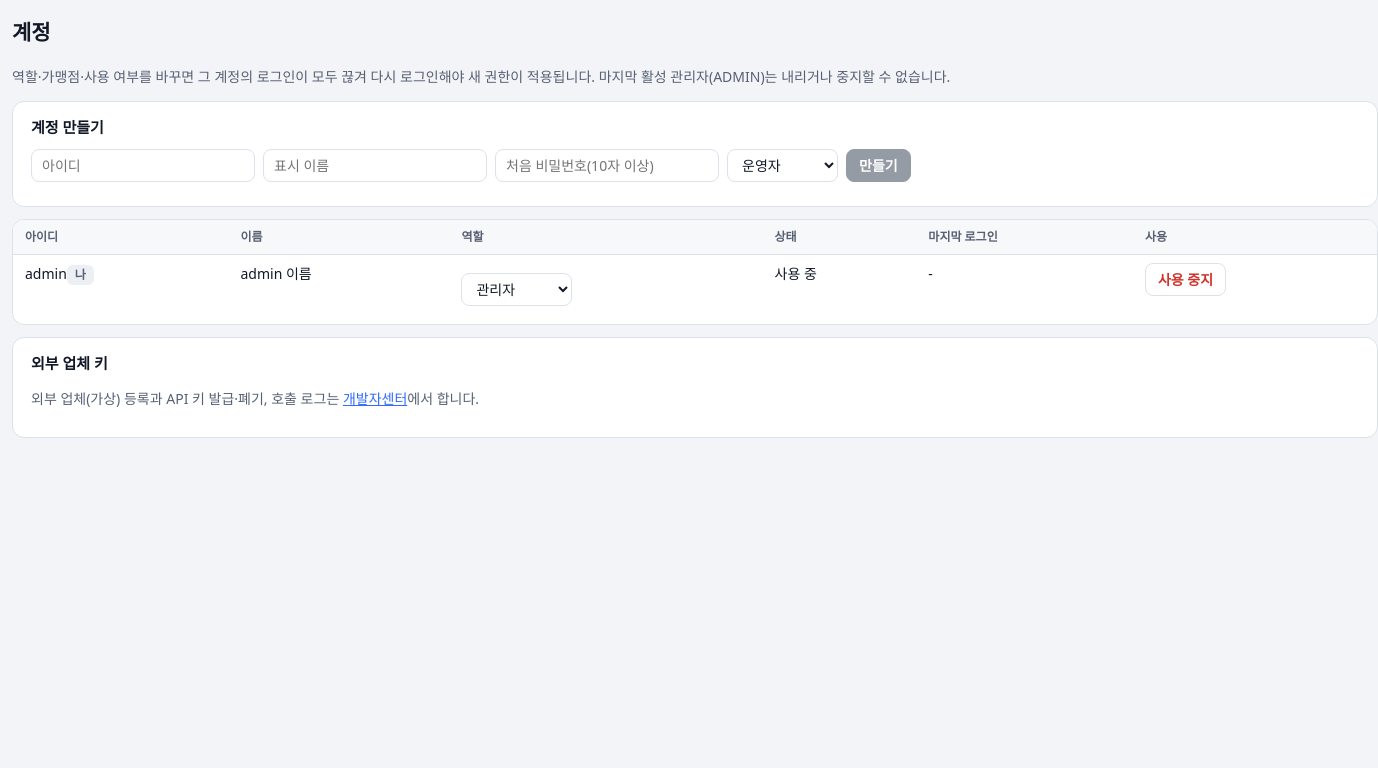
Test: 계정 화면 (ADMIN, 보강 5) › 성공하면 만든 계정 안내만 남기고 입력·요청 변수(비밀번호)는 비운다
Type "newbie" into the field named "새 아이디". click: [143, 165]
box: [31,149,255,182]
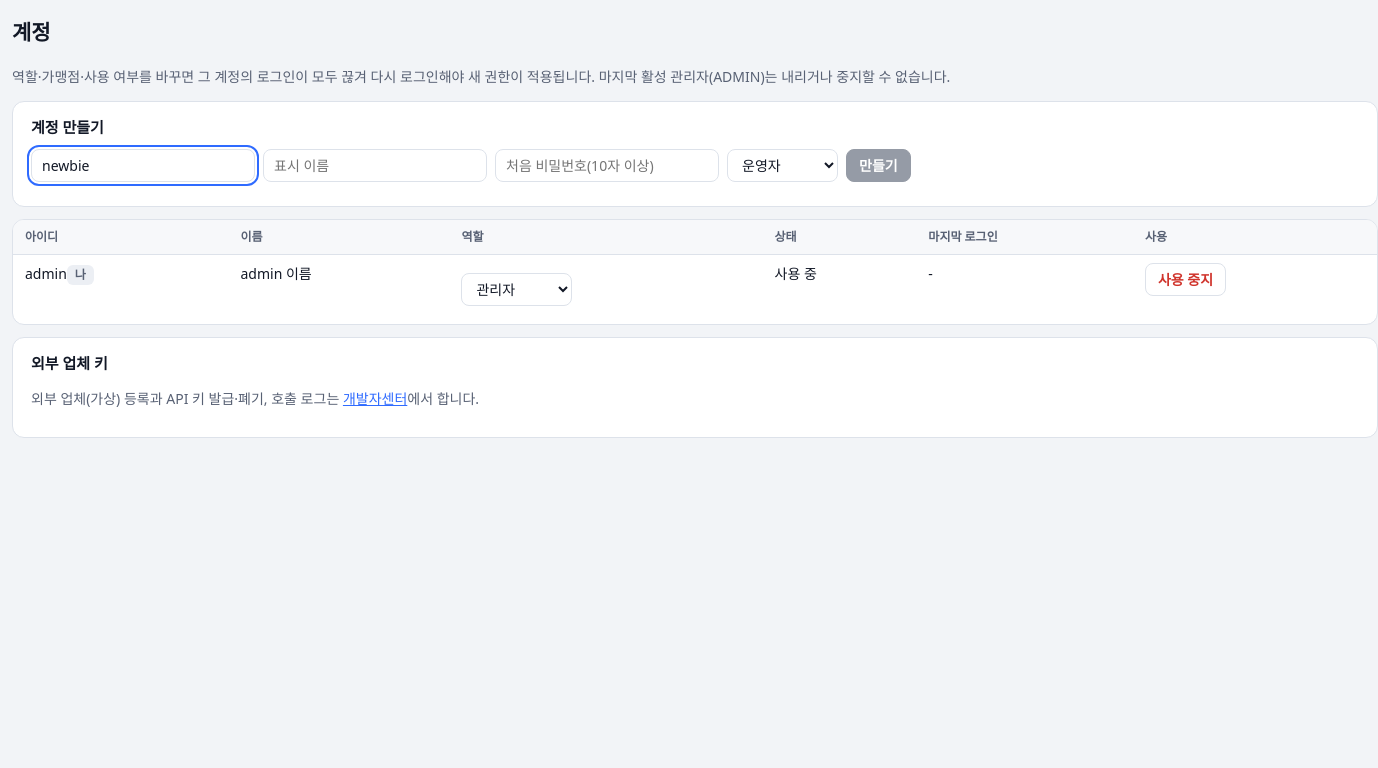
Type "새 사람" into the field labelled "표시 이름". click: [375, 165]
box: [263,149,487,182]
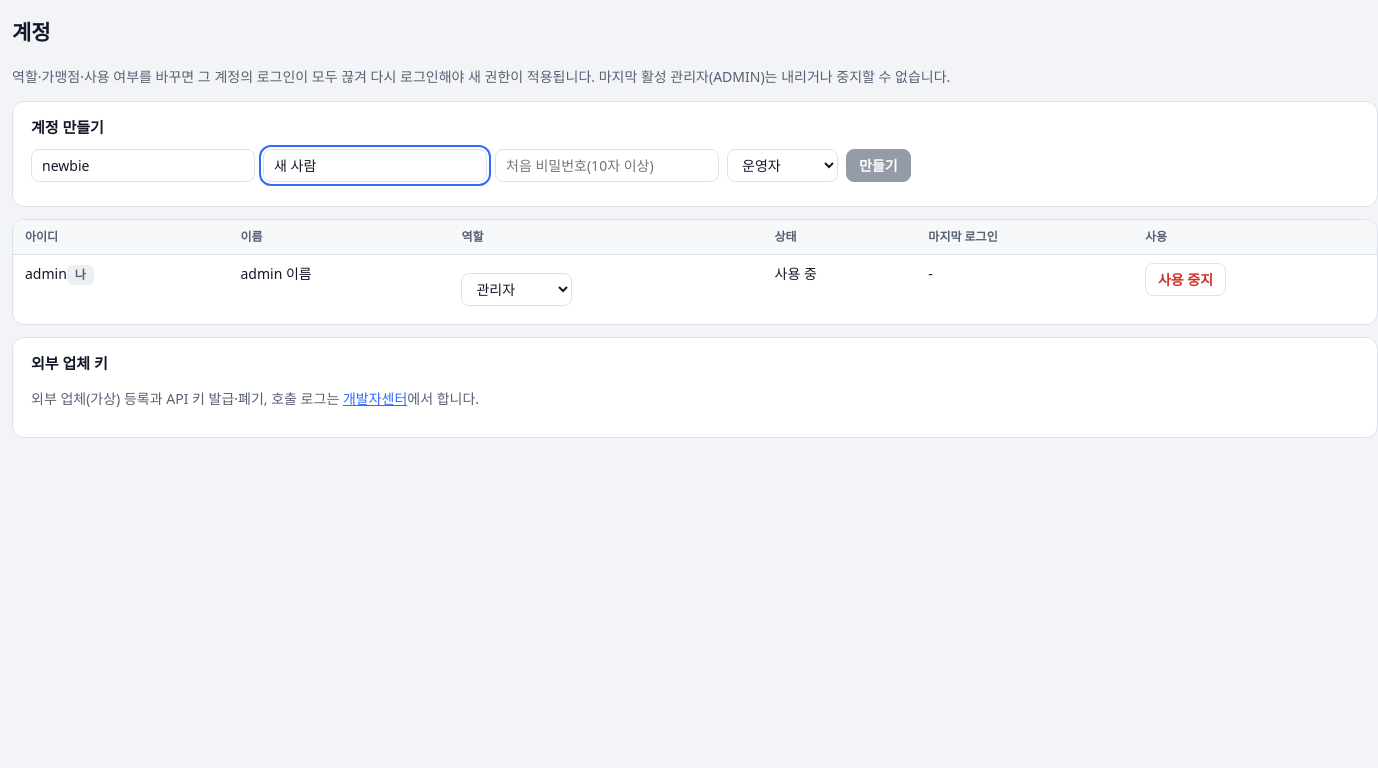
Type "demo-pass-0001" into the password field labelled "처음 비밀번호". click: [607, 165]
box: [495,149,719,182]
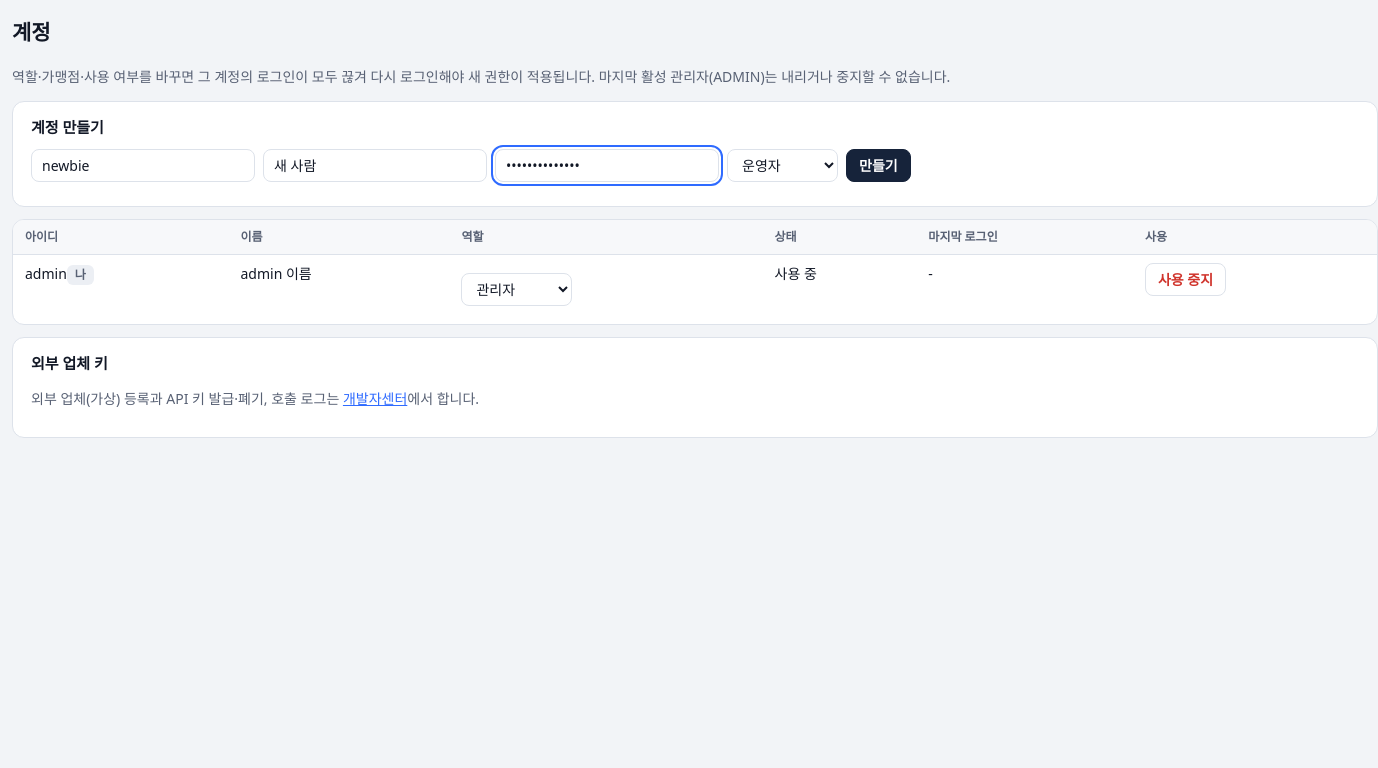
Click the button "만들기". click: [878, 165]
box: [846,149,911,182]
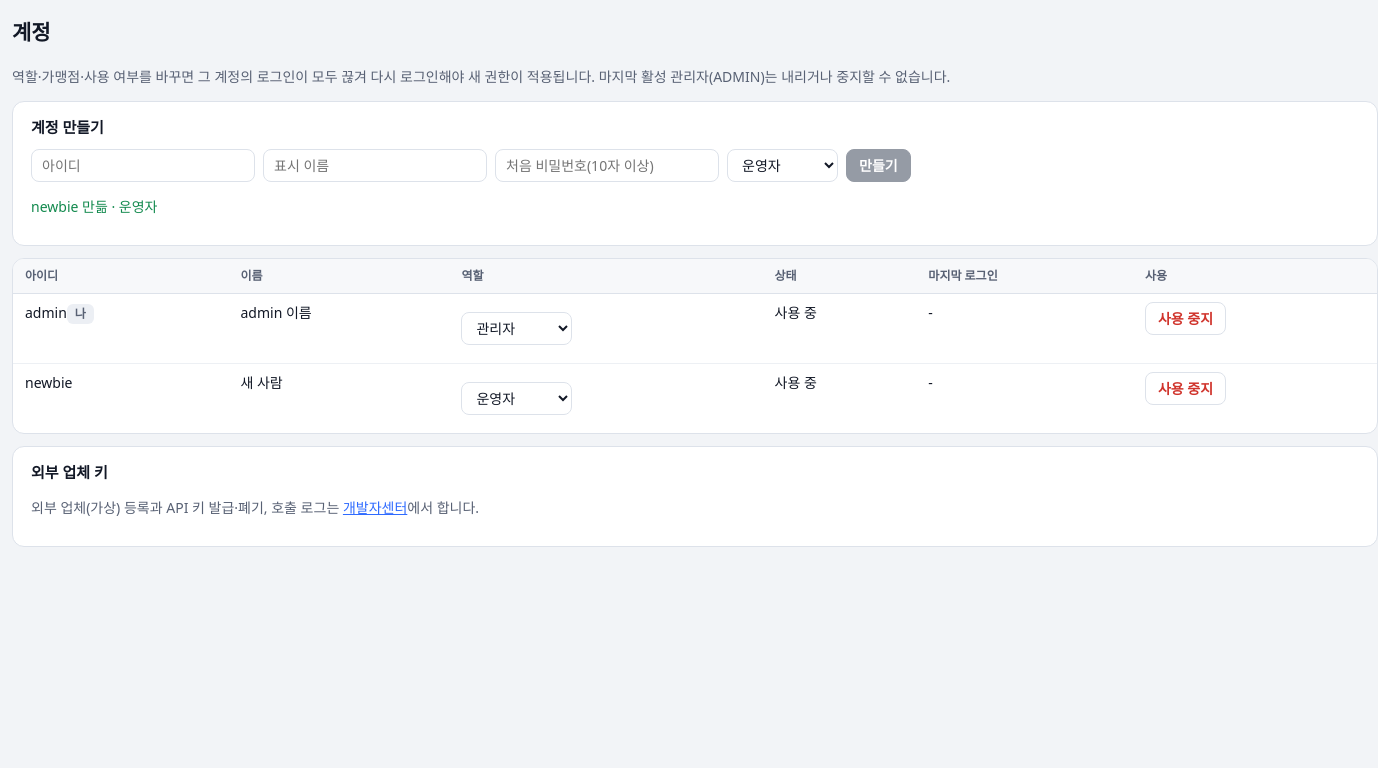
Expected: the message shows "newbie 만듦", [31,197,158,216]
